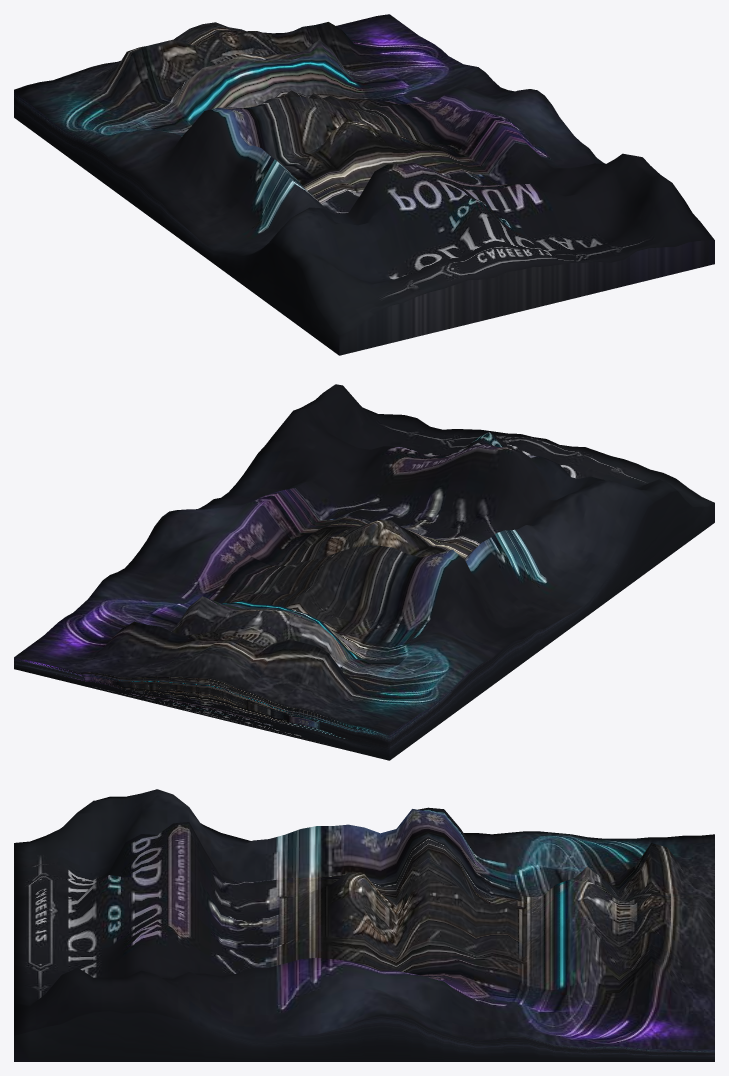
Rendered from CAREER_12_Tool_03_Podium.glb.
The picture shows the model from 3 angles, top to bottom: view 1: azimuth 30°, elevation 25°; view 2: azimuth 150°, elevation 25°; view 3: azimuth 270°, elevation 25°; orthographic projection. The views are drawn at different scales.
Parts seen in each view (by area): view 1: CAREER_12_Tool_03_Podium; view 2: CAREER_12_Tool_03_Podium; view 3: CAREER_12_Tool_03_Podium.
Boxes of the visible parts, x1,y1,x2,y2 form: CAREER_12_Tool_03_Podium: (14, 14, 714, 355); CAREER_12_Tool_03_Podium: (14, 384, 714, 760); CAREER_12_Tool_03_Podium: (14, 789, 714, 1061).
Bounding box in the file's own units: 2 × 0.51 × 3.
1 material, 1 textured.
